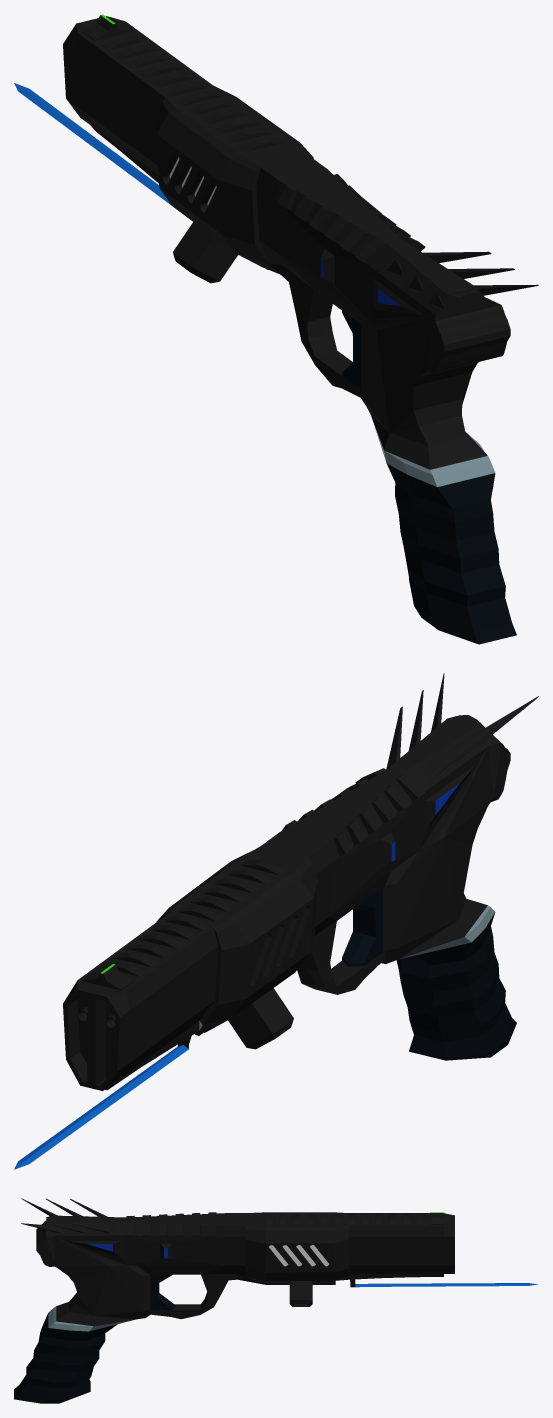
File: Plasma_Gun_mk_3.fbx
3 renders of one model, top to bottom at view 1: azimuth 30°, elevation 25°; view 2: azimuth 150°, elevation 25°; view 3: azimuth 270°, elevation 25°, orthographic. The views are drawn at different scales.
Parts seen in each view (by area): view 1: Pistol_Mk_3; view 2: Pistol_Mk_3; view 3: Pistol_Mk_3.
Part boxes in pixels (box(x1,y1,x2,y2)): Pistol_Mk_3: box(14, 14, 538, 644); Pistol_Mk_3: box(14, 673, 538, 1169); Pistol_Mk_3: box(14, 1198, 538, 1403).
Size of the model in its own units: 35.85 by 4.3 by 13.91.
